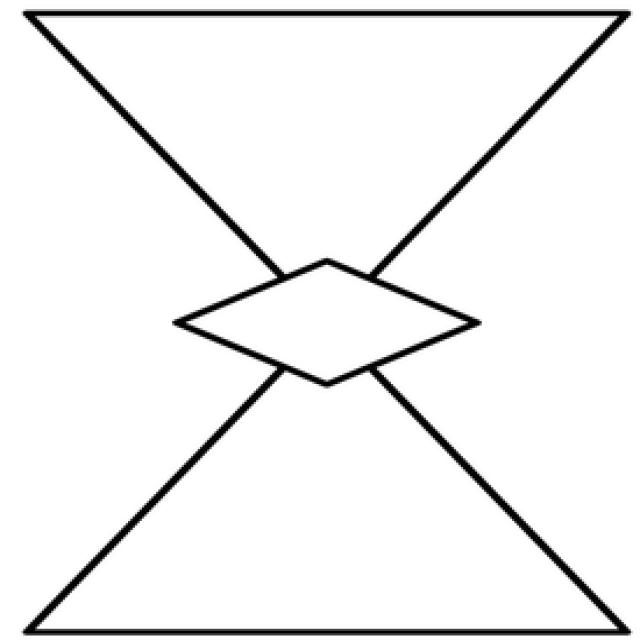Plug Valve: (30, 10, 625, 633)
